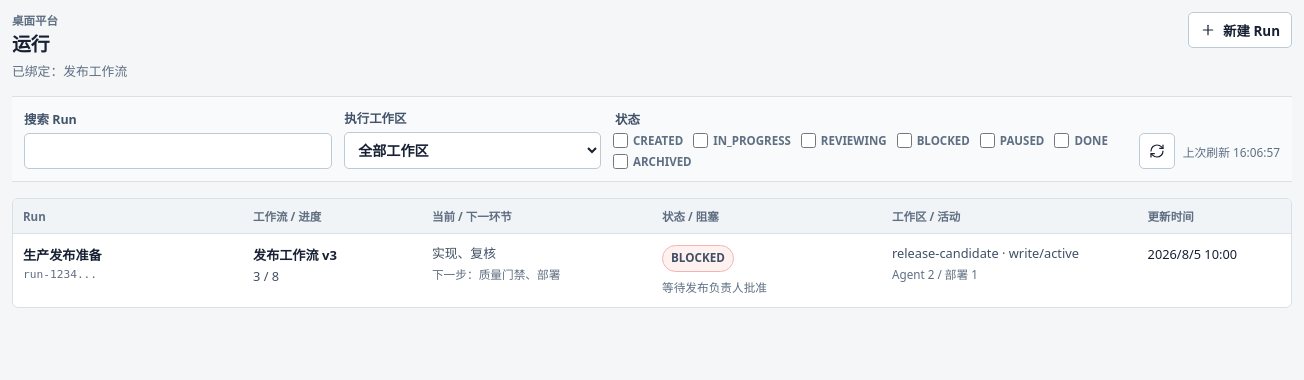
RunListPage › retains rows and refresh time when a manual refresh fails
Expected: the text "生产发布准备" is shown, [23,246,102,264]
Click the button named "刷新 Run 列表" at (1157, 152), box [1139,134,1175,170]
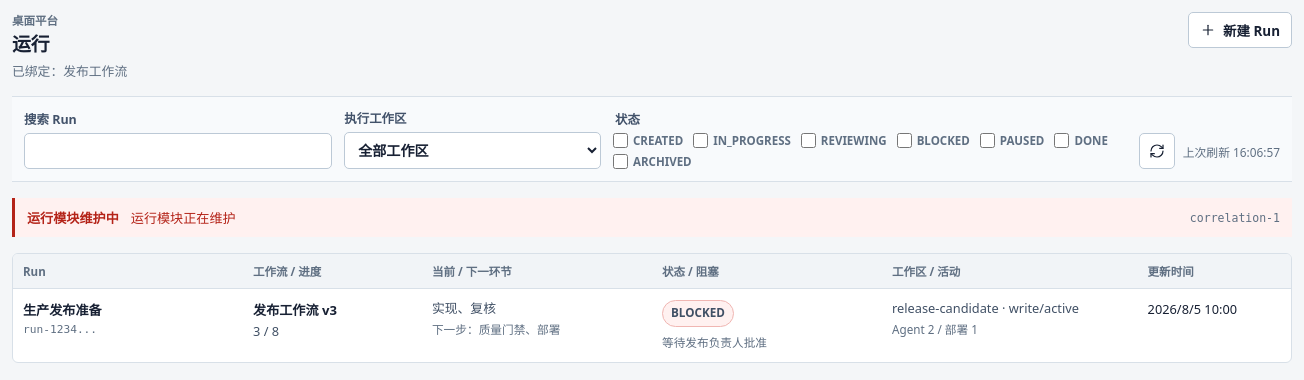
Expected: the text "生产发布准备" is shown, [23,302,102,320]
Expected: the message shows "运行模块正在维护", [131,210,236,228]
Expected: the message shows "correlation-1", [1190,211,1280,225]
